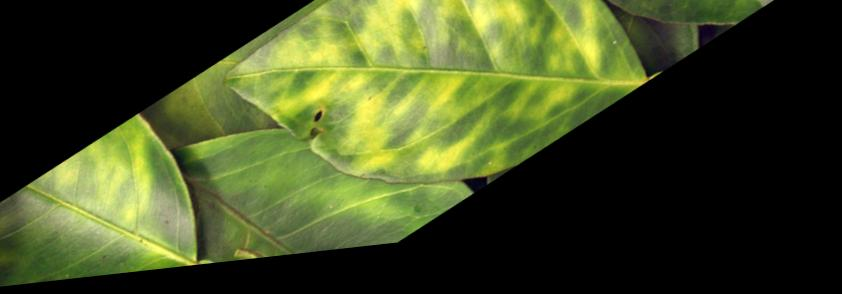Citrus Greening: (198, 0, 680, 272), (149, 29, 507, 276), (0, 102, 257, 294), (501, 0, 842, 115), (10, 212, 303, 288)
